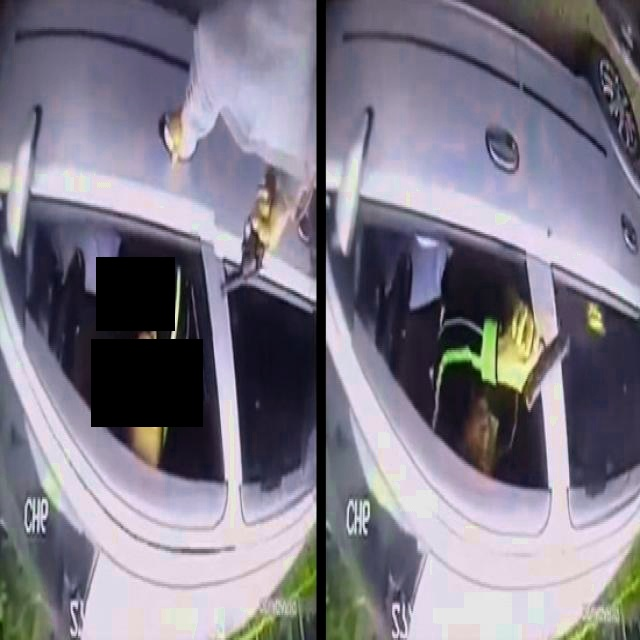gun: (502, 277, 580, 420), (216, 157, 283, 310)
